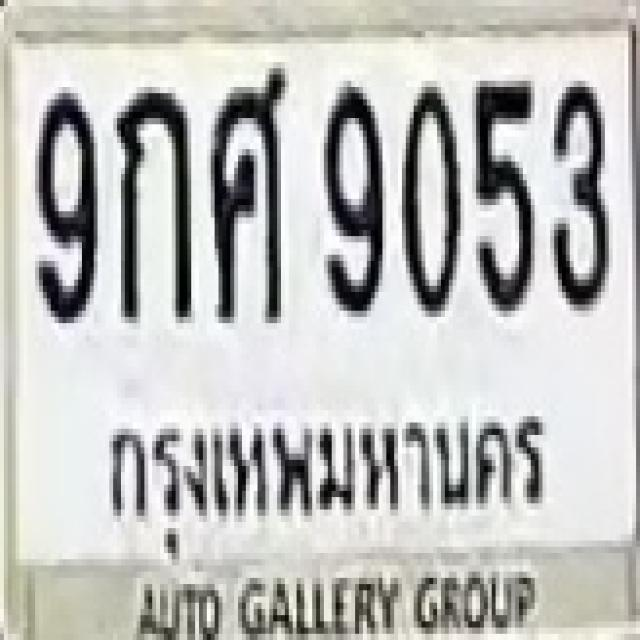0: (398, 80, 457, 310)
3: (550, 74, 605, 304)
5: (472, 74, 531, 310)
9: (31, 87, 94, 317), (320, 80, 382, 310)
A01: (113, 81, 187, 317)
A38: (207, 62, 285, 317)
BKK: (99, 388, 551, 541)
